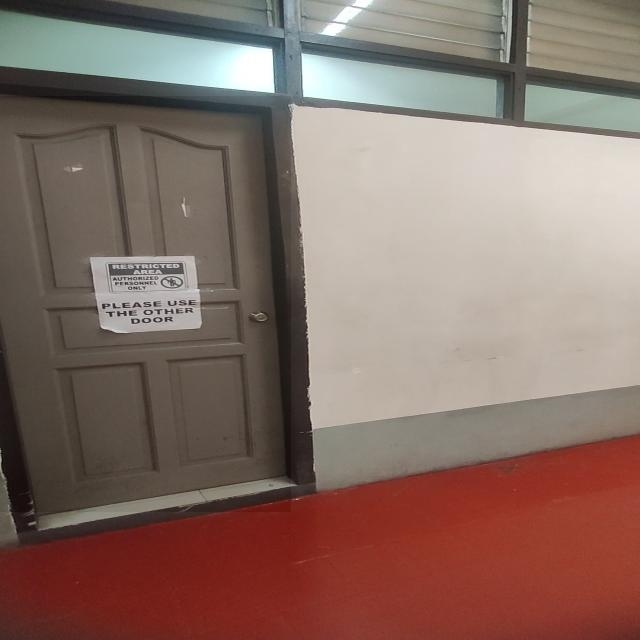door: (0, 75, 293, 514)
